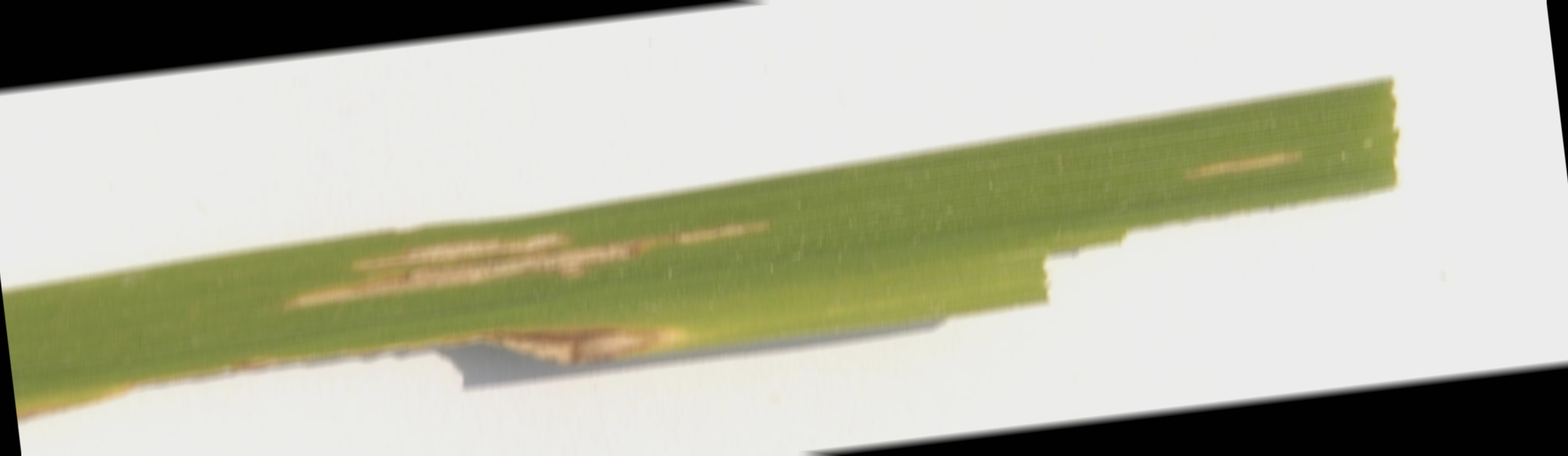Leaf_Blast: (251, 215, 840, 292), (1145, 126, 1360, 196)
